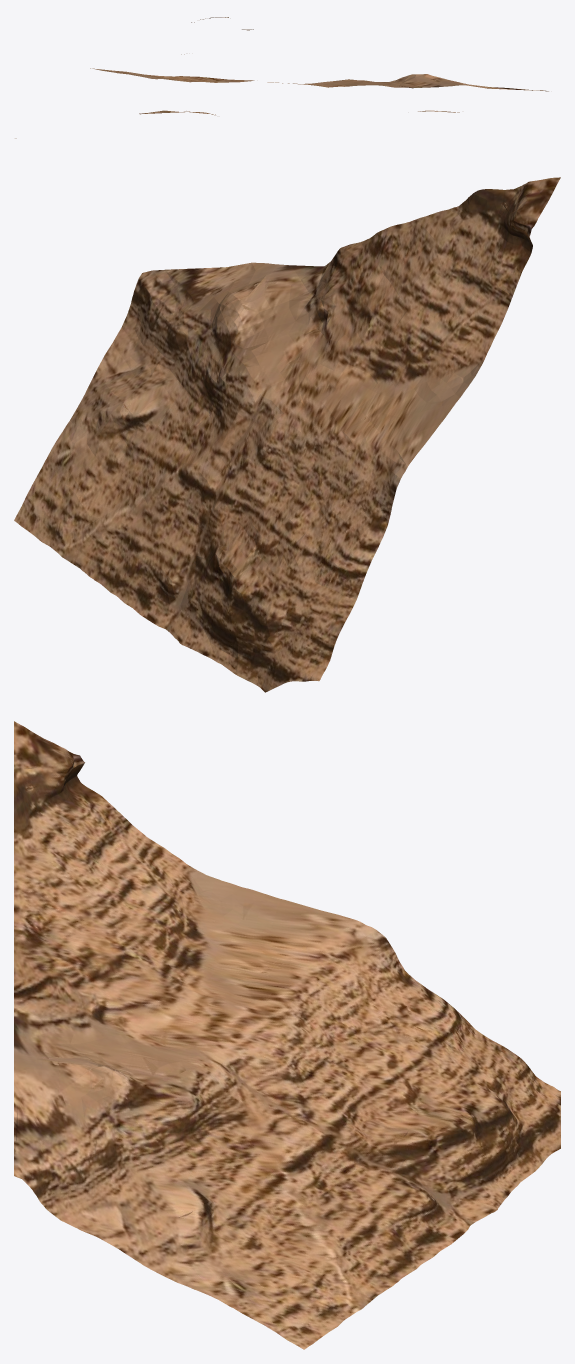
3 views of the same model, one above another, from view 1: azimuth 30°, elevation 25°; view 2: azimuth 150°, elevation 25°; view 3: azimuth 270°, elevation 25° (orthographic). The views are drawn at different scales.
Size of the model in its own units: 1.04 by 0.838 by 1.04.
2 materials, 2 textured.
